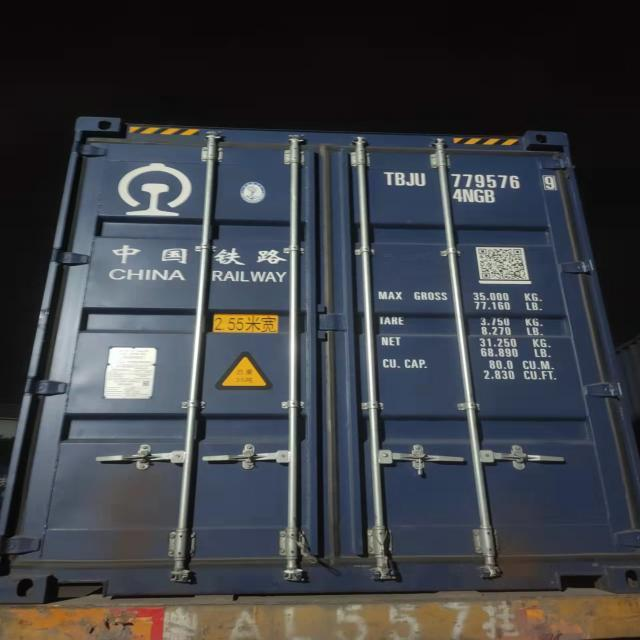ISO: (444, 187, 512, 210)
container_number: (380, 167, 570, 191)
